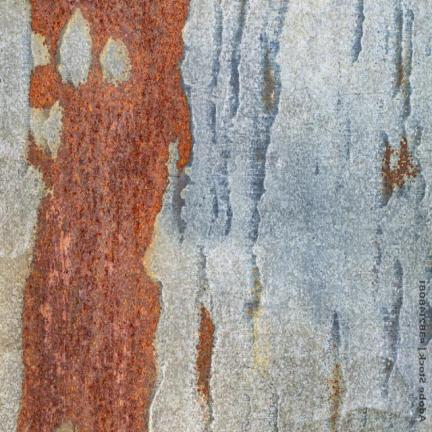besi_tidak_karat: (150, 0, 431, 431)
karat: (19, 0, 191, 431)
